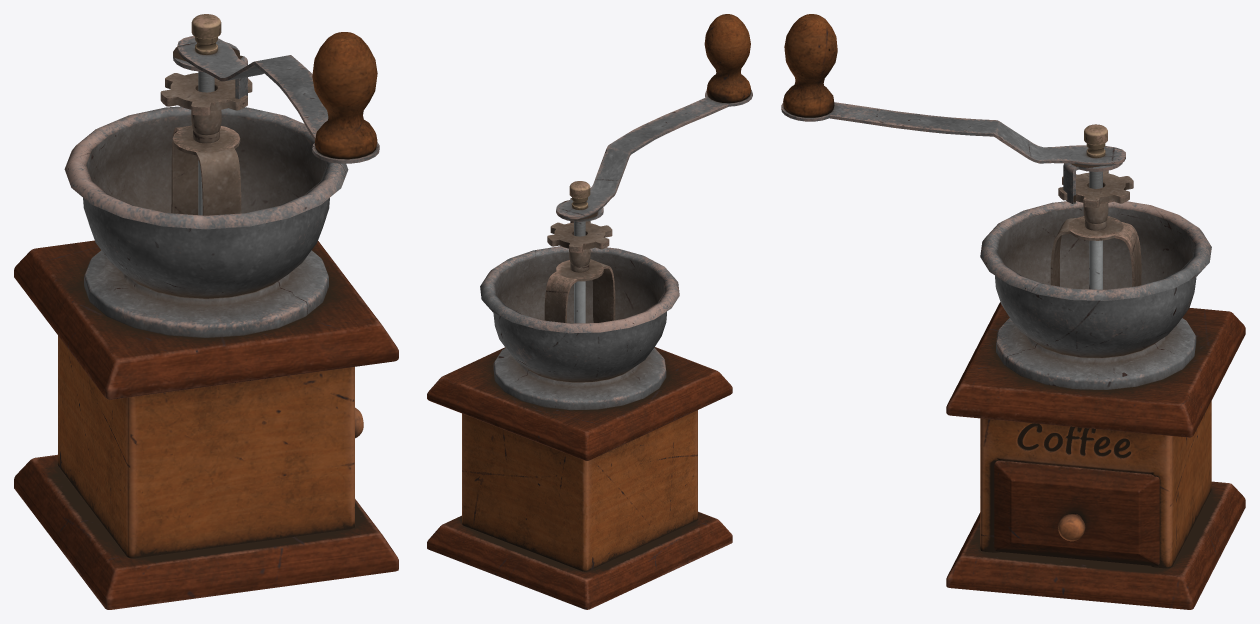
File: grinder.glb
3 views of the same model, side by side, from view 1: azimuth 30°, elevation 25°; view 2: azimuth 150°, elevation 25°; view 3: azimuth 270°, elevation 25° (orthographic). The views are drawn at different scales.
Parts seen in each view (by area): view 1: polySurface41, polySurface38; view 2: polySurface41, polySurface38; view 3: polySurface41, Grinder_drawer, polySurface38.
Boxes of the visible parts, box(x1,y1,x2,y2) form: polySurface41: box(14, 14, 398, 609); polySurface38: box(160, 32, 379, 163); polySurface41: box(427, 181, 732, 609); polySurface38: box(547, 14, 752, 252); polySurface41: box(946, 124, 1245, 609); Grinder_drawer: box(994, 460, 1159, 565); polySurface38: box(781, 14, 1133, 207).
Bounding box in the file's own units: 0.368 × 0.7017 × 0.5711.
Materials: 2 (2 with a texture image).
